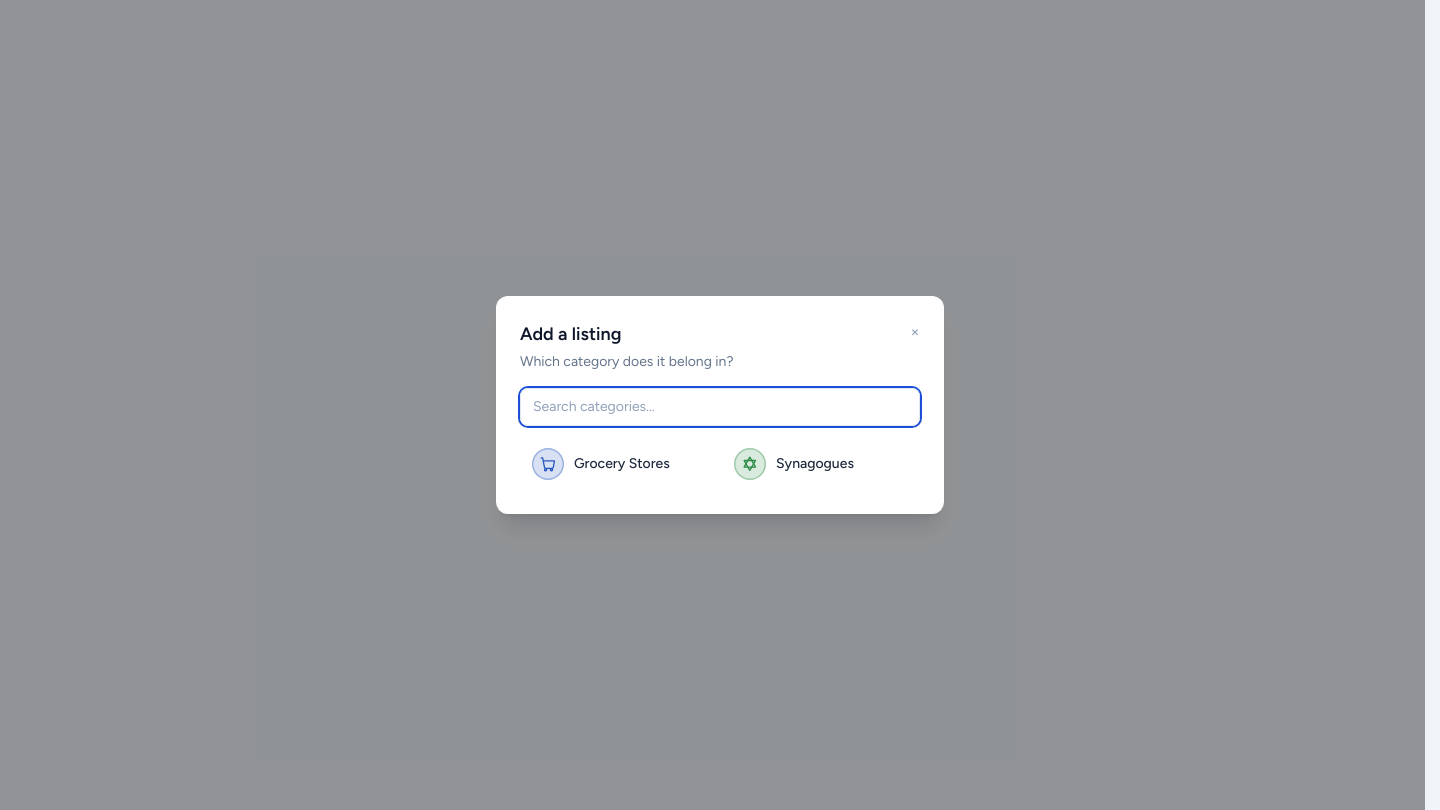
ContributePicker › filters the category list live as you type
Expected: the text "Grocery Stores" is shown, [574,454,670,474]
Expected: the text "Synagogues" is shown, [776,454,854,474]
Type "grocery" into the field labelled "Search categories" at (720, 407), box [520,388,920,426]
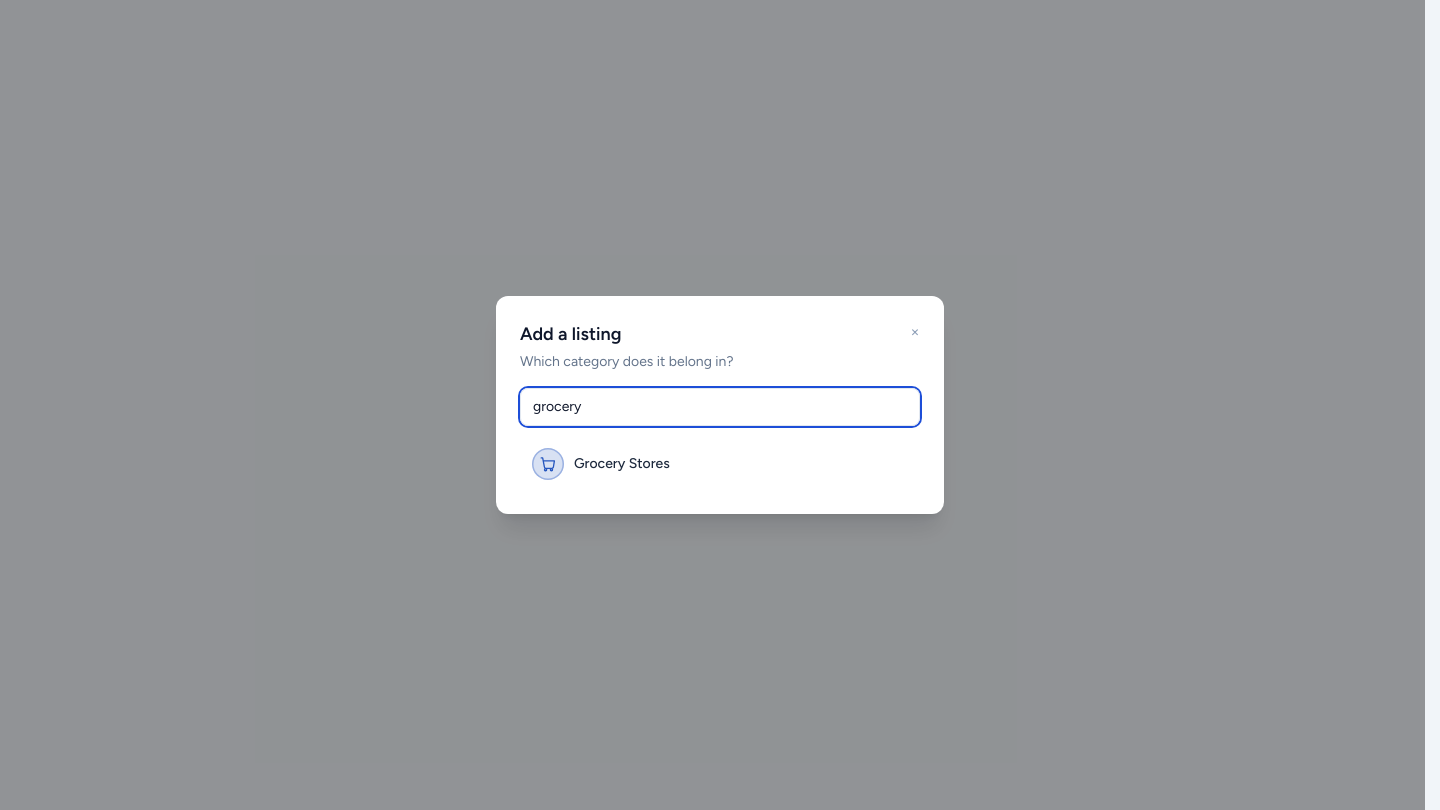
Expected: the text "Grocery Stores" is shown, [574,454,670,474]
Now the link "Synagogues" is gone
